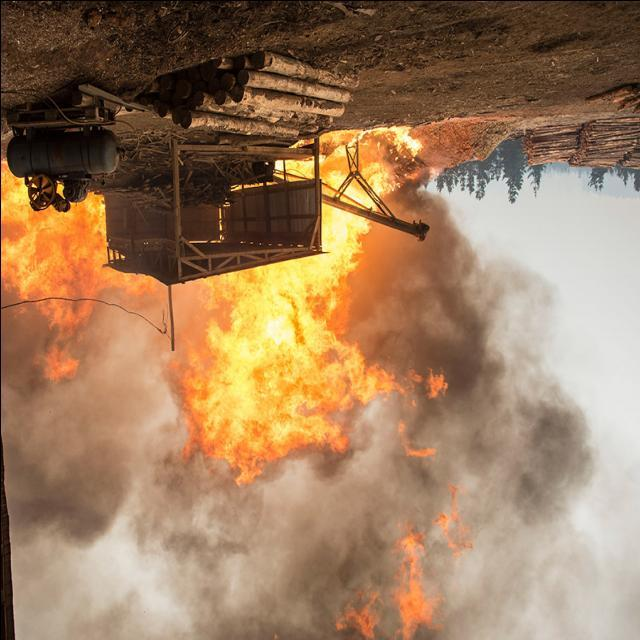Fire: (173, 163, 469, 484), (2, 162, 161, 407), (327, 477, 481, 636), (318, 128, 420, 156)
